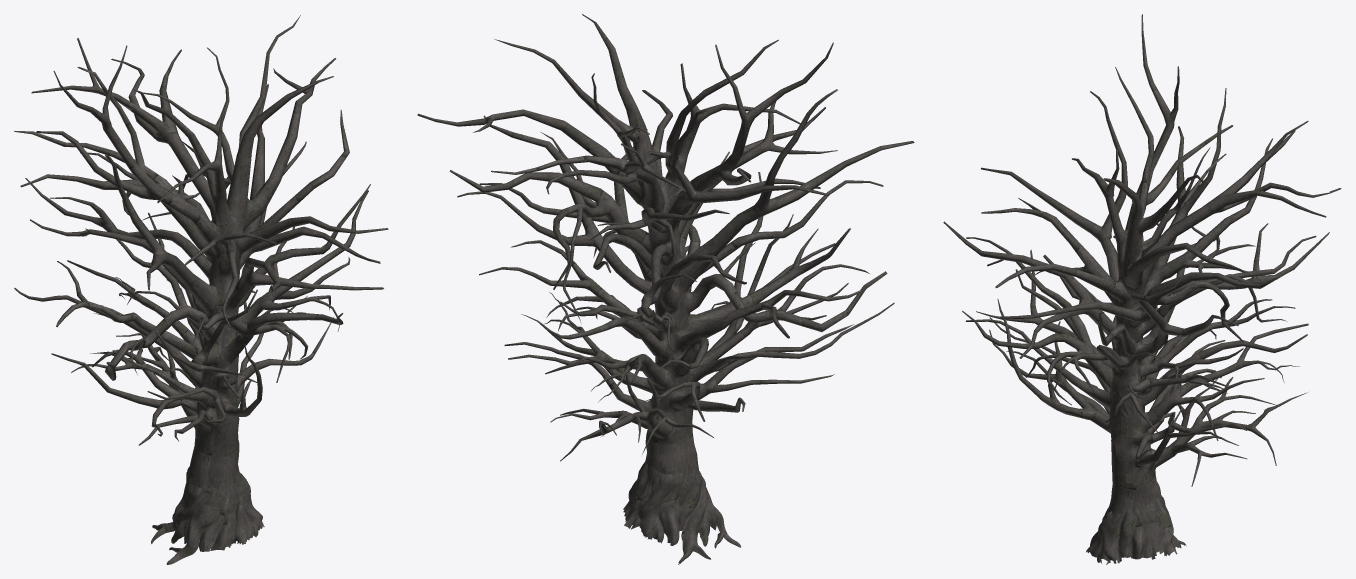
The model's file is tree01.fbx.
The picture shows the model from 3 angles, left to right: view 1: azimuth 30°, elevation 25°; view 2: azimuth 150°, elevation 25°; view 3: azimuth 270°, elevation 25°; orthographic projection. The views are drawn at different scales.
Parts seen in each view (by area): view 1: m001040_0; view 2: m001040_0; view 3: m001040_0.
Boxes of the visible parts, <box> form: m001040_0: <box>14,15,388,564</box>; m001040_0: <box>417,14,914,564</box>; m001040_0: <box>943,14,1341,564</box>.
Bounding box in the file's own units: 415127 × 575862 × 431974.
1 material, 1 textured.
